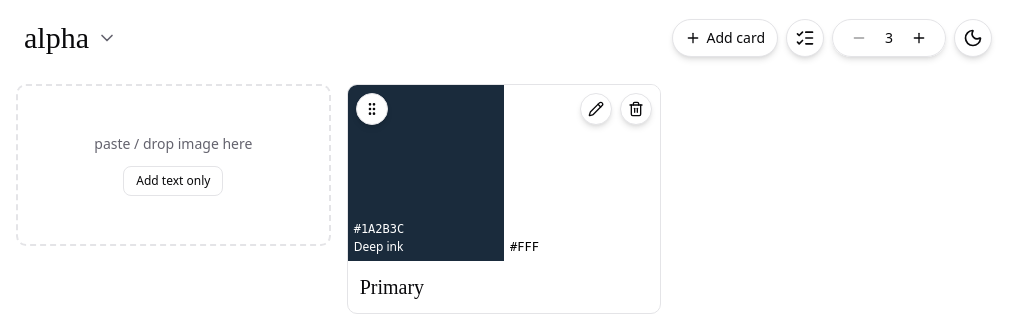
it: copying a hex value › copies the hex as the card shows it and says Copied on that stripe for a moment
The image size is (1009, 331).
Check: the button with aria-label "Brand" is shown, box top-left (16, 16), bottom-right (125, 60)
Step 1. Click the button with aria-label "Copy #1A2B3C, Deep ink" → (426, 173), box top-left (348, 85), bottom-right (504, 261)
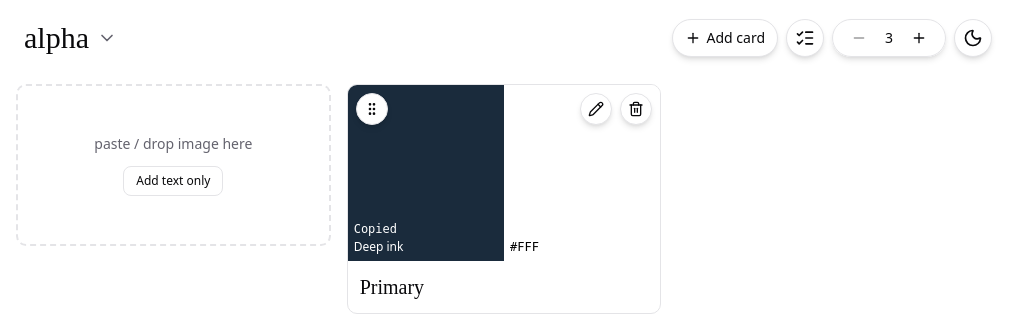
Check: the button with aria-label "Copy #FFF" reads "#FFF", box top-left (504, 85), bottom-right (660, 261)
Check: the button with aria-label "Copy #1A2B3C, Deep ink" reads "Copied Deep ink", box top-left (348, 85), bottom-right (504, 261)
